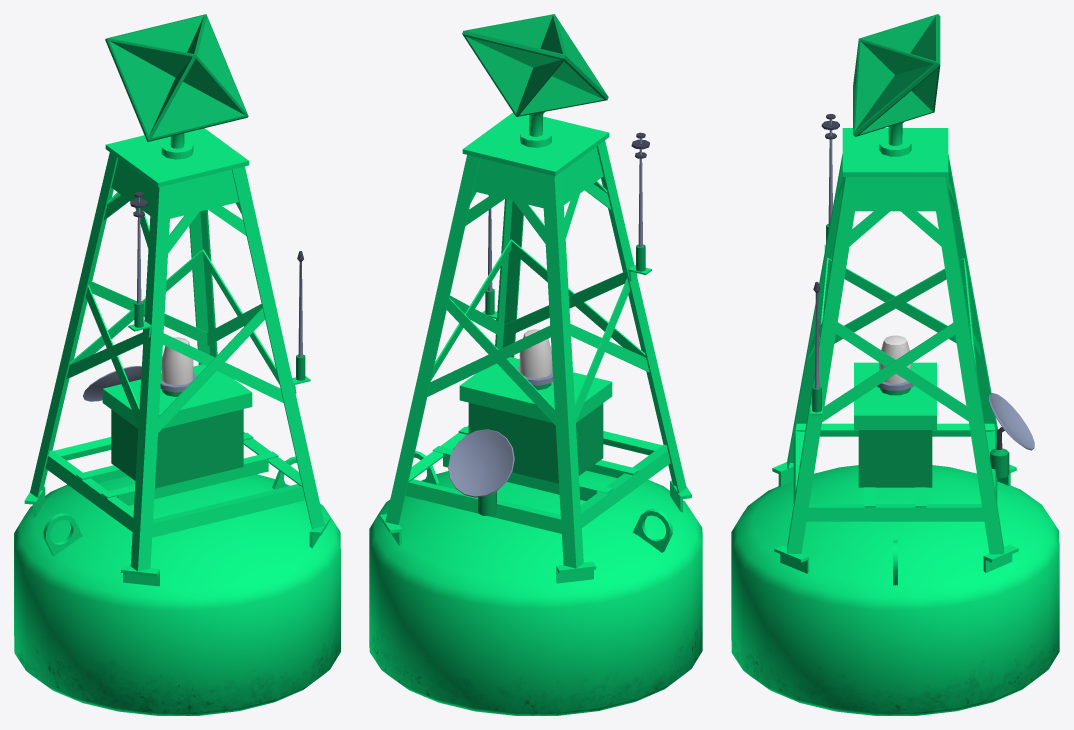
Rendered from Buoy03.fbx.
3 renders of one model, left to right at view 1: azimuth 30°, elevation 25°; view 2: azimuth 150°, elevation 25°; view 3: azimuth 270°, elevation 25°, orthographic. The views are drawn at different scales.
Parts seen in each view (by area): view 1: Buoy03; view 2: Buoy03; view 3: Buoy03.
Boxes of the visible parts, x1=… form: Buoy03: x1=14, y1=14, x2=340, y2=715; Buoy03: x1=369, y1=14, x2=702, y2=715; Buoy03: x1=731, y1=14, x2=1059, y2=715.
Bounding box in the file's own units: 1.56 × 3.2 × 1.56.
